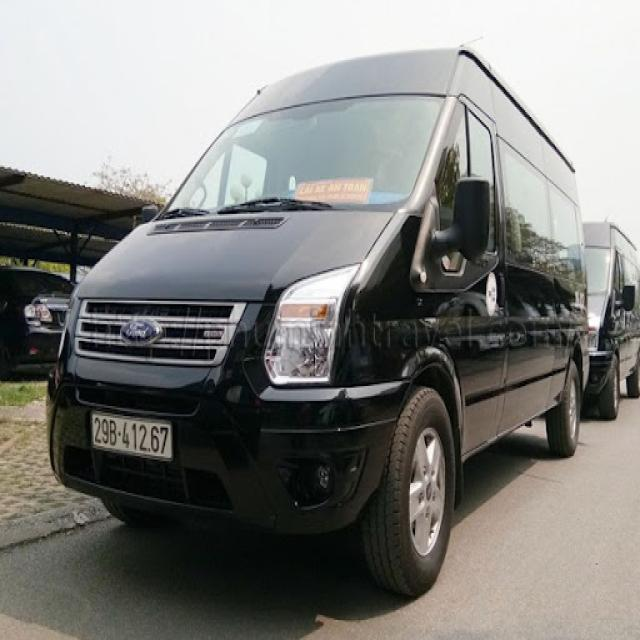car: (40, 13, 608, 587)
plate: (85, 408, 178, 463)
